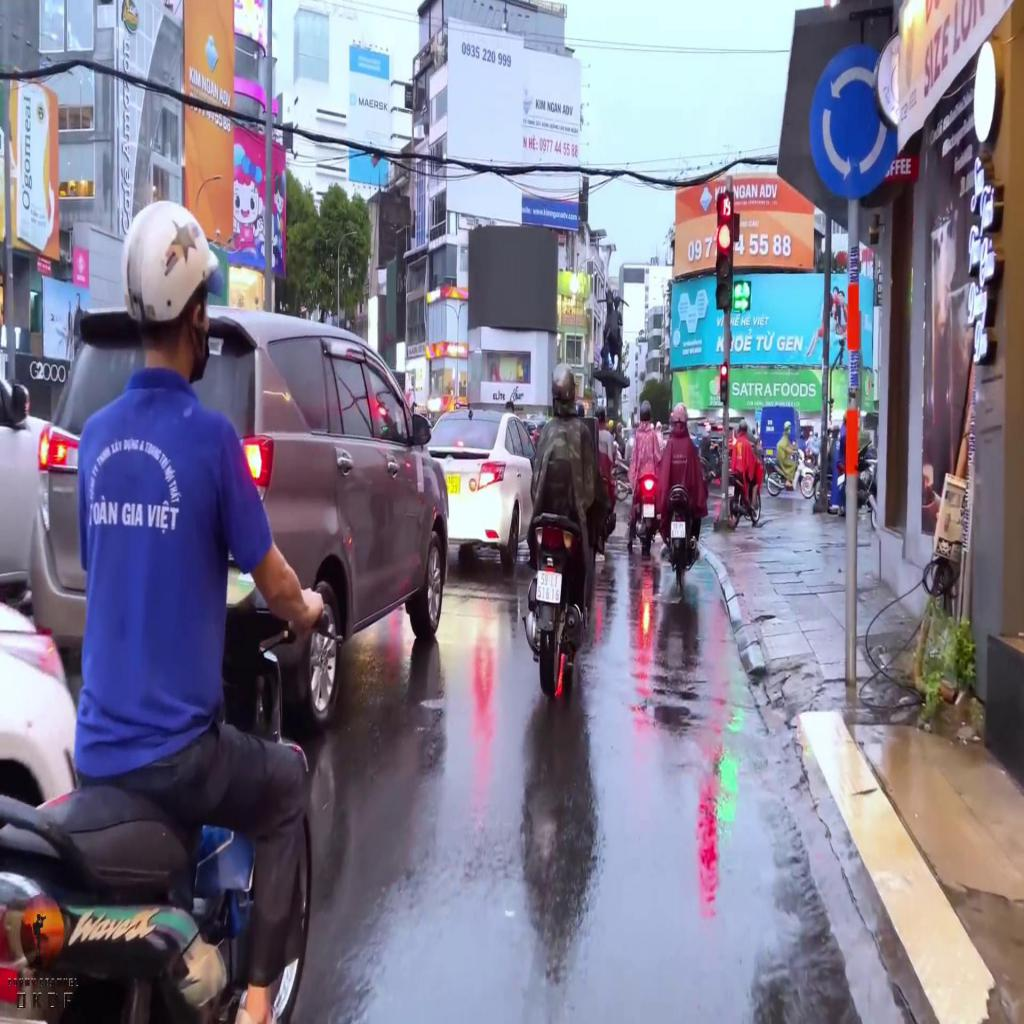noi_giao_nhau_chay_theo_vong: (810, 43, 896, 199)
